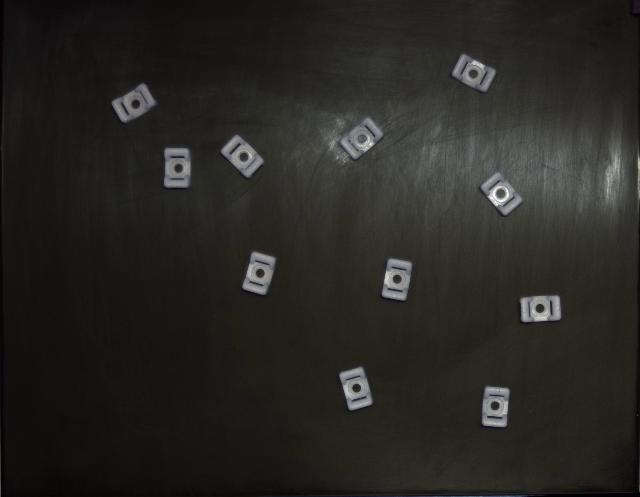first_side: (221, 135, 265, 179), (111, 84, 158, 124), (340, 118, 384, 160), (480, 172, 522, 216), (451, 54, 496, 92), (242, 253, 276, 295), (339, 368, 372, 411), (381, 259, 412, 301), (164, 148, 191, 189)
